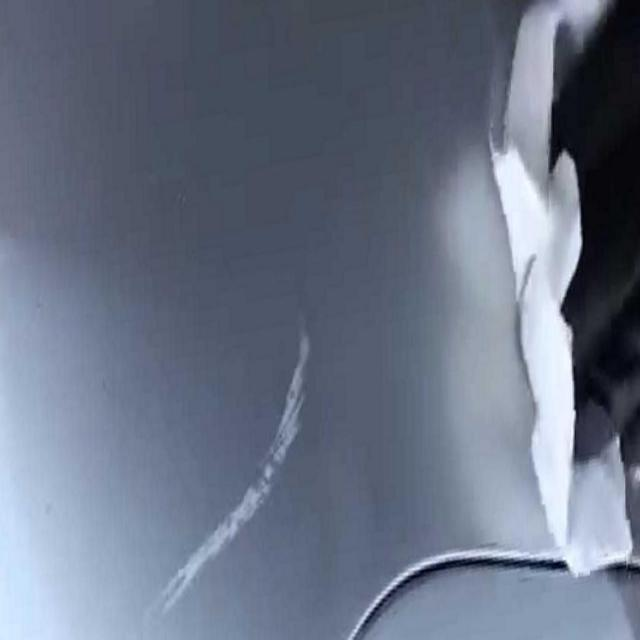scratch: (132, 299, 322, 640)
